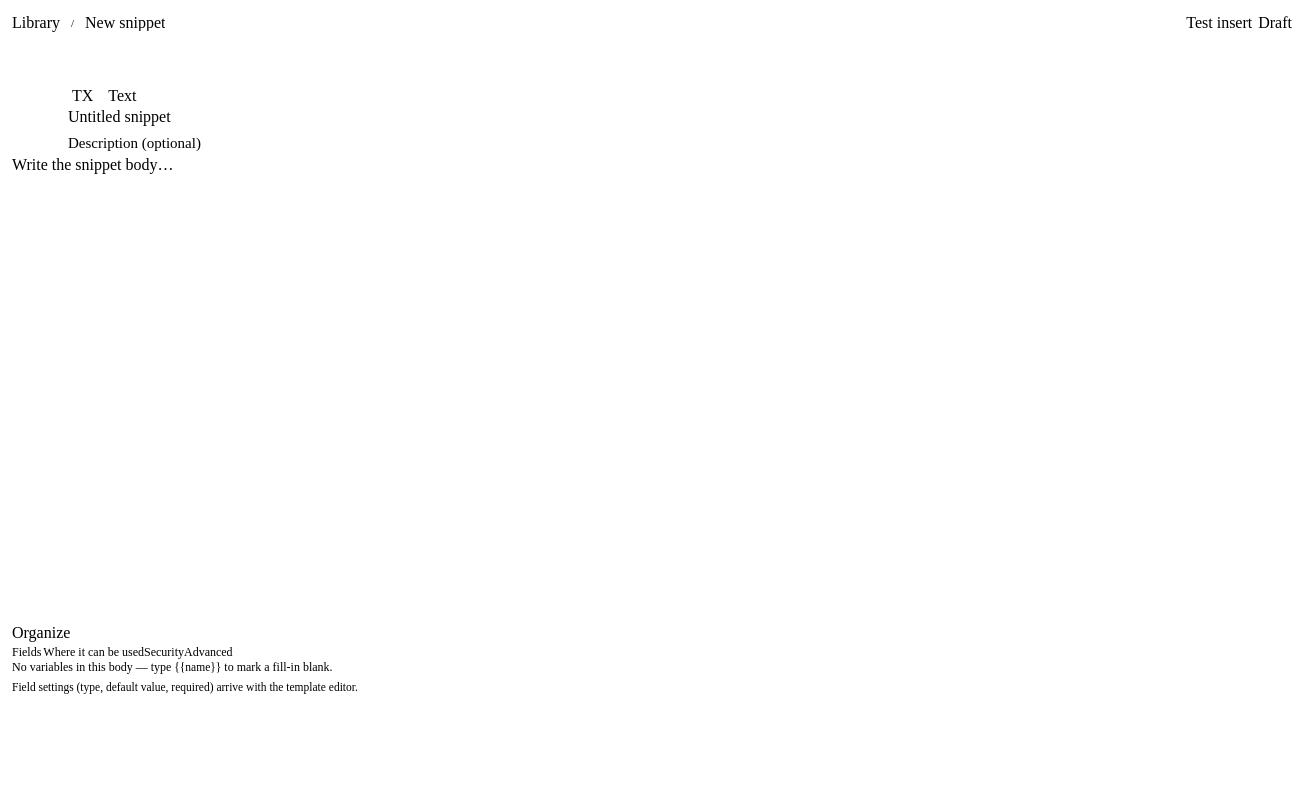
Test: EditorPage › auto-saves a new draft once a title exists, then shows Saved
Type "Deploy checklist" into the field named "Snippet title".
click(652, 117); type("Deploy checklist")  # box [68,108,1236,126]
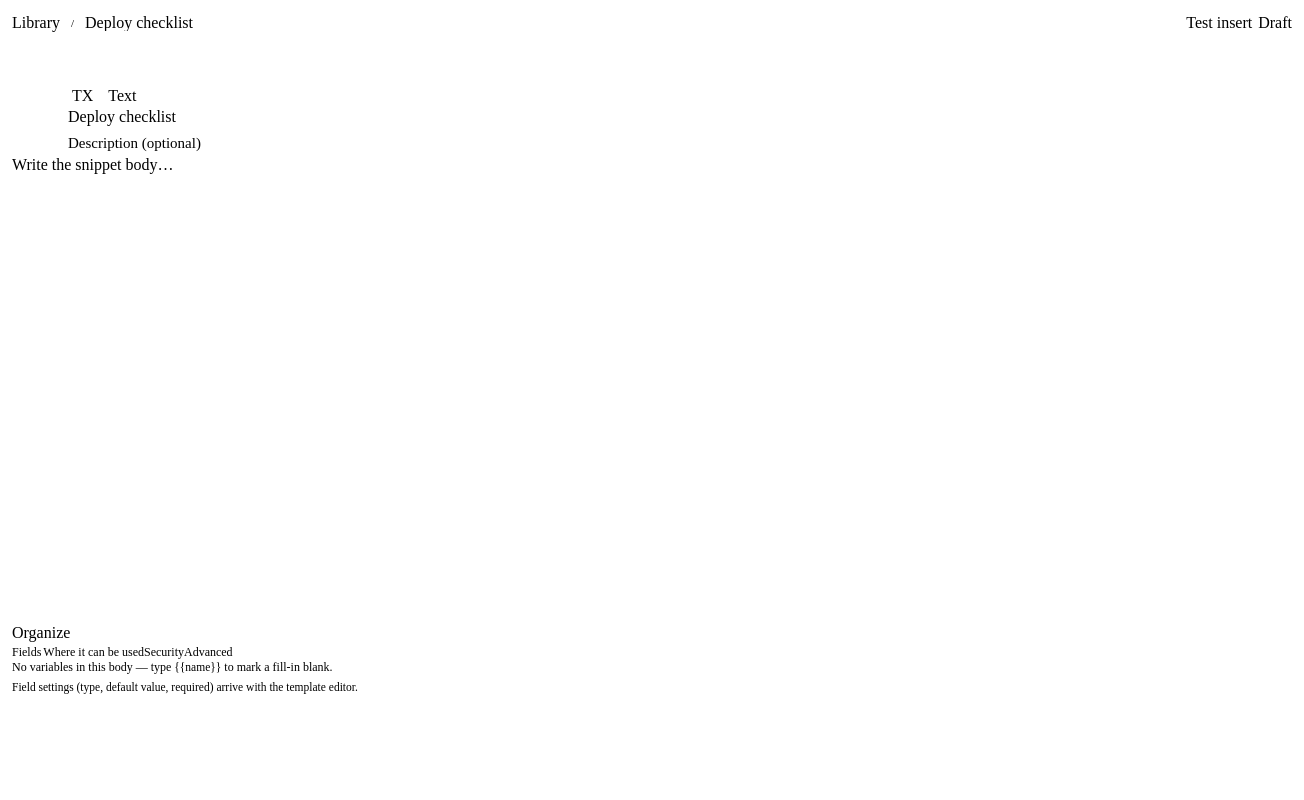
Type "kubectl get pods" into the text box labelled "snippet body".
click(352, 216); type("kubectl get pods")  # box [12,156,692,276]
Wait 900 ms
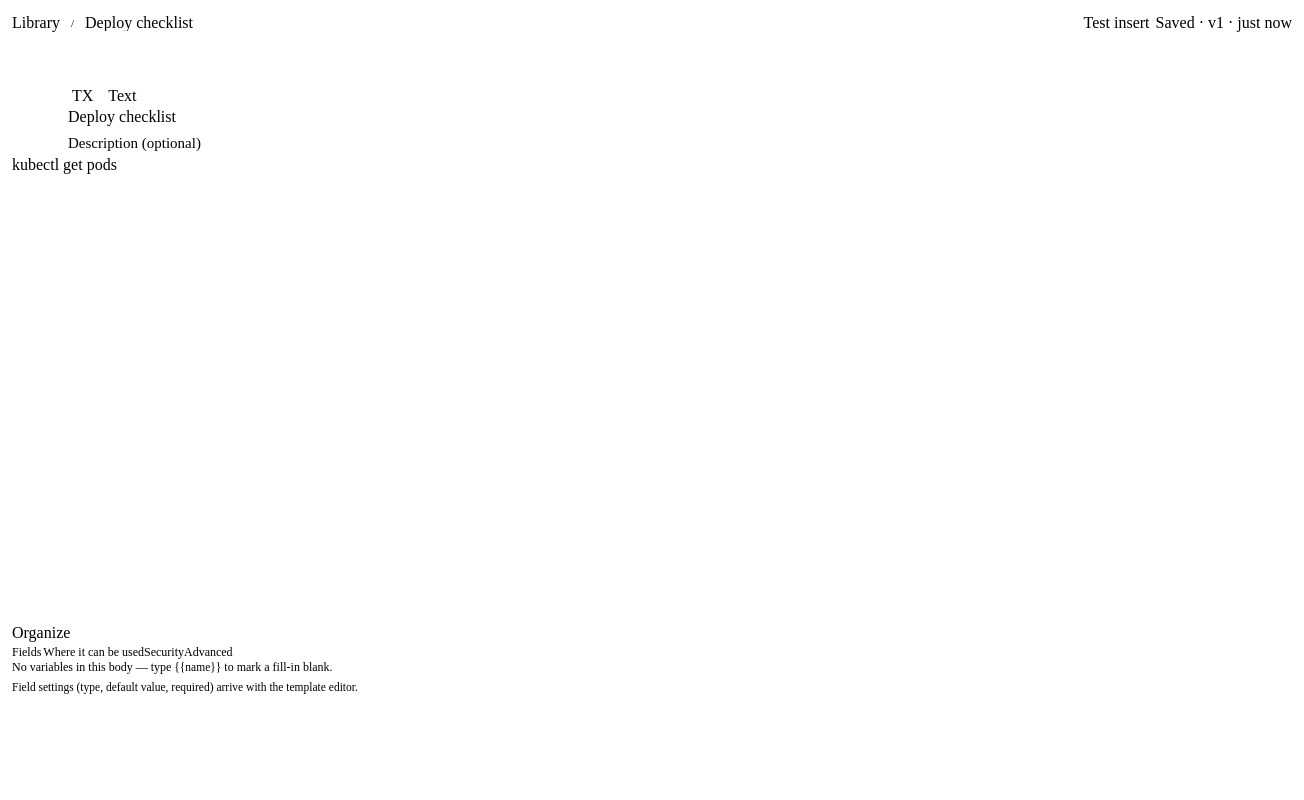
Expected: the message shows "Saved · v1", [1156,14,1292,31]
